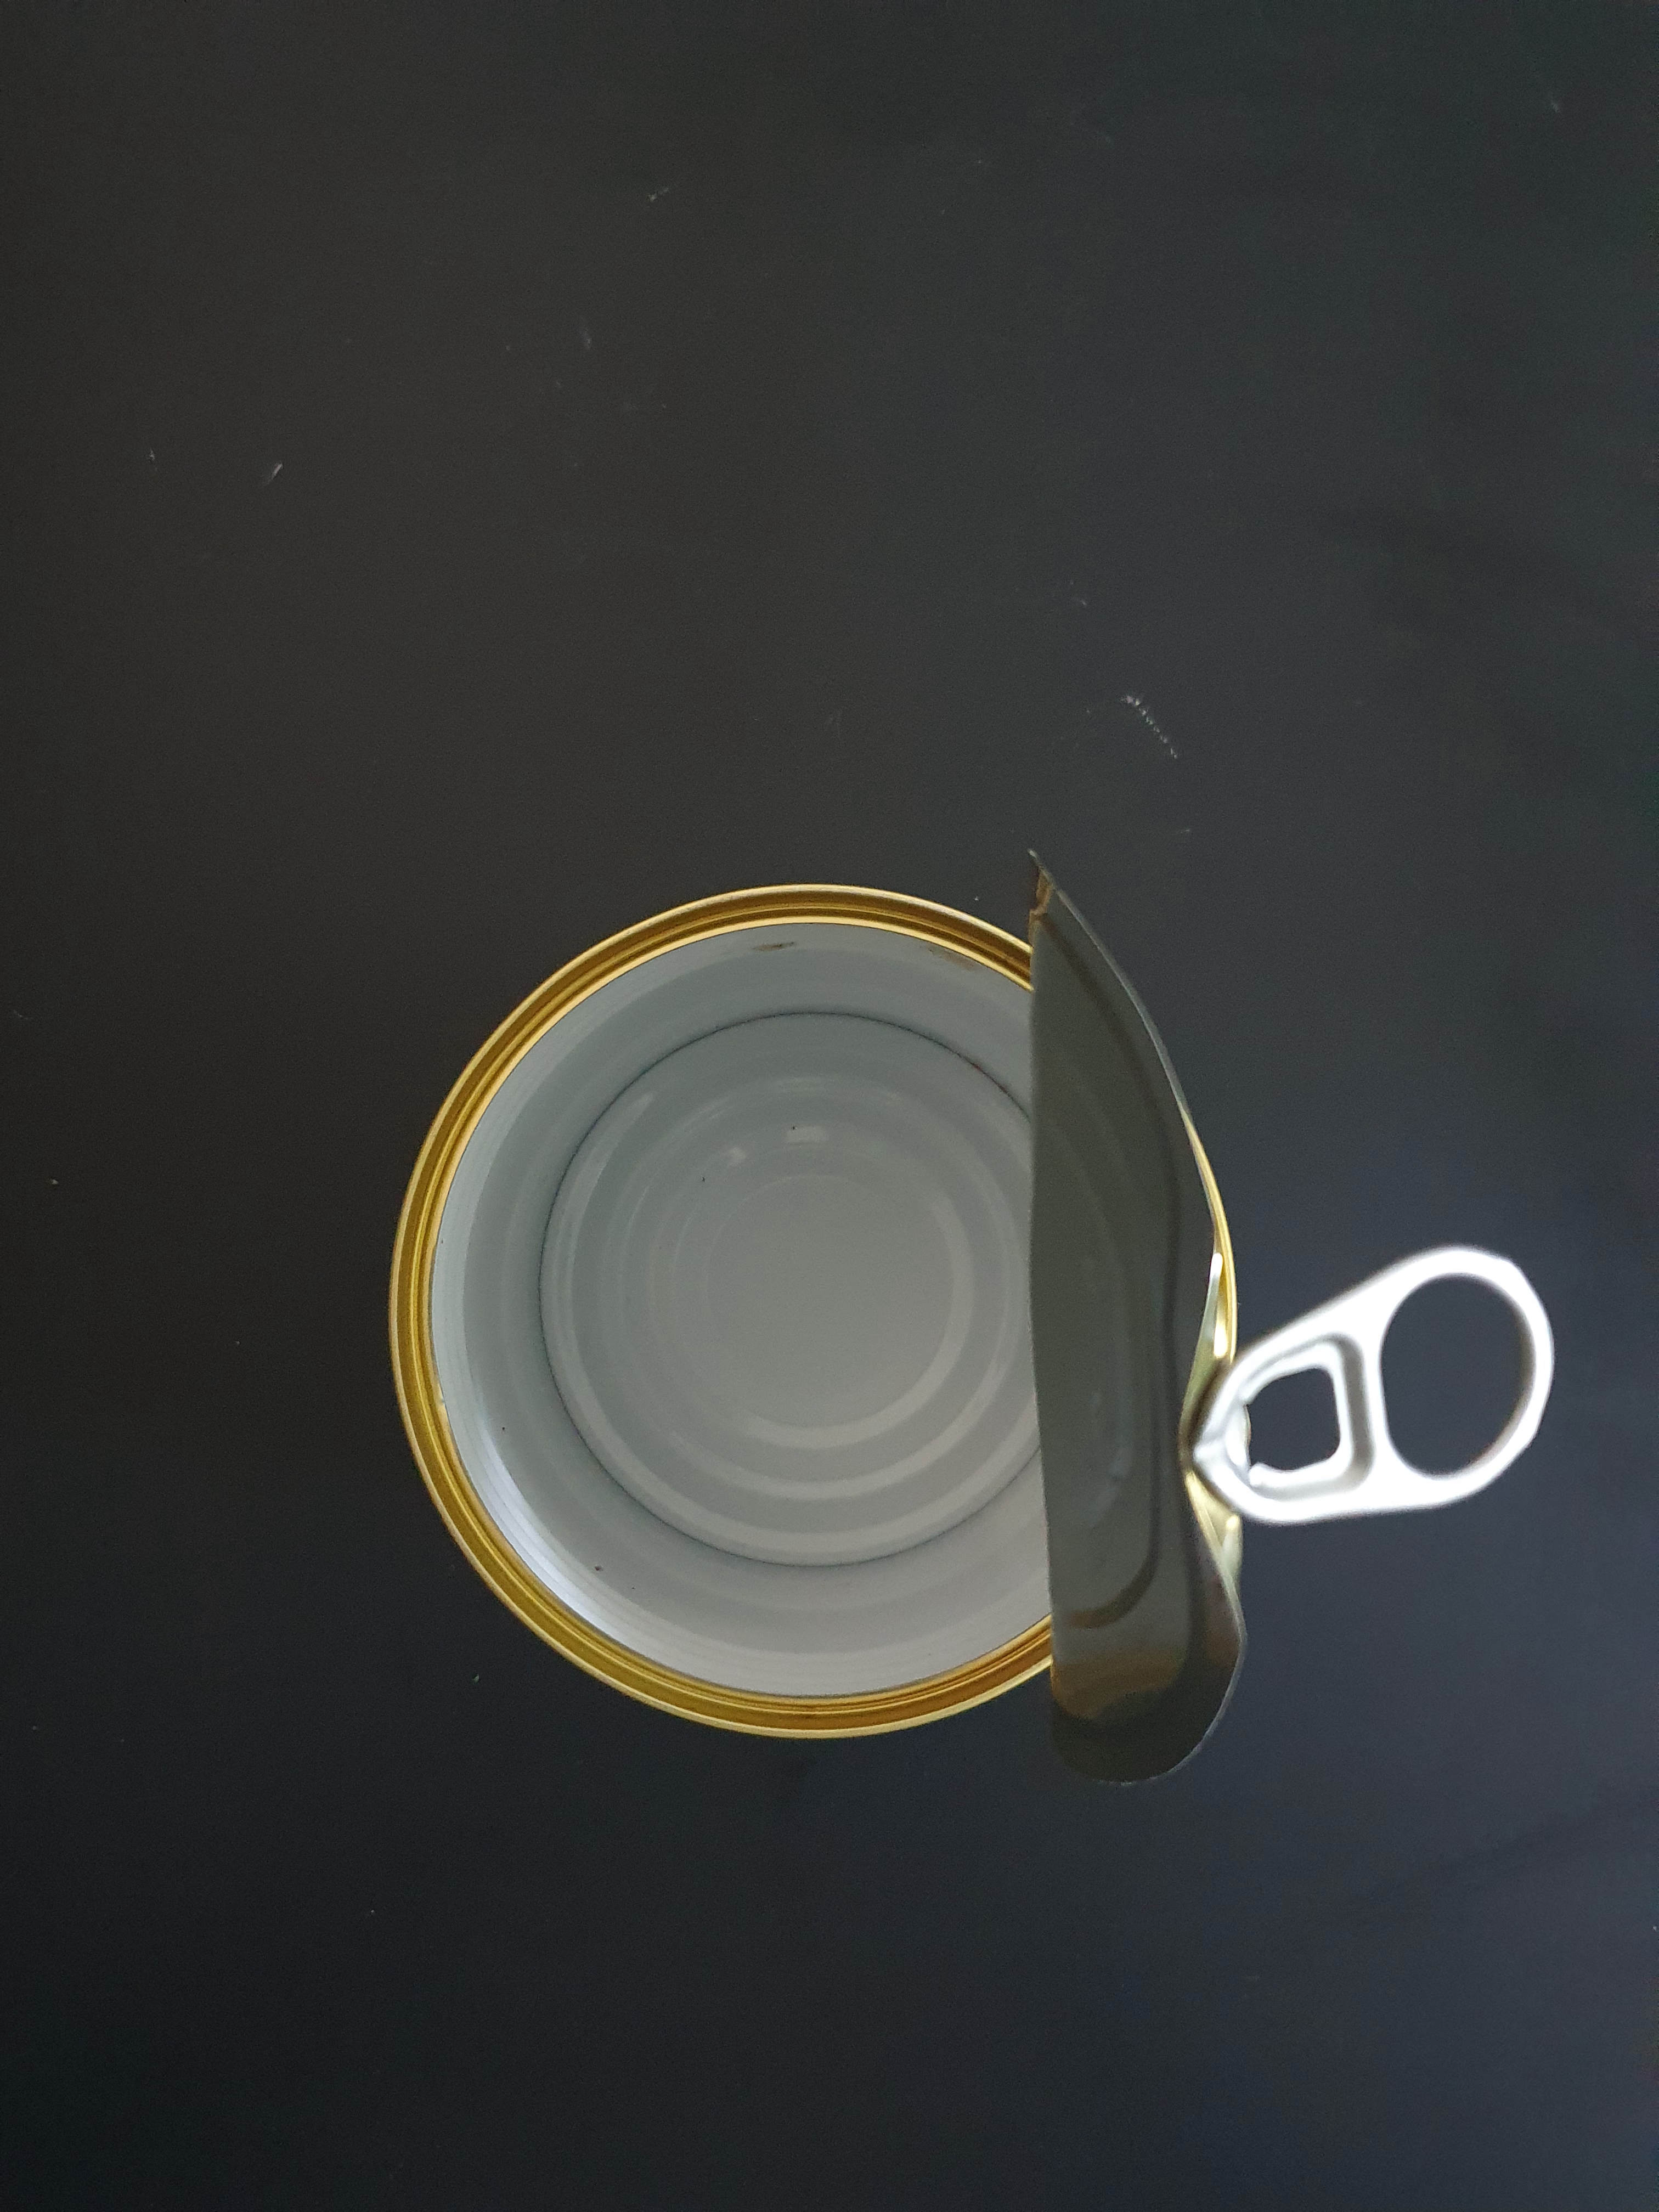metal: (335, 775, 1600, 1818)
